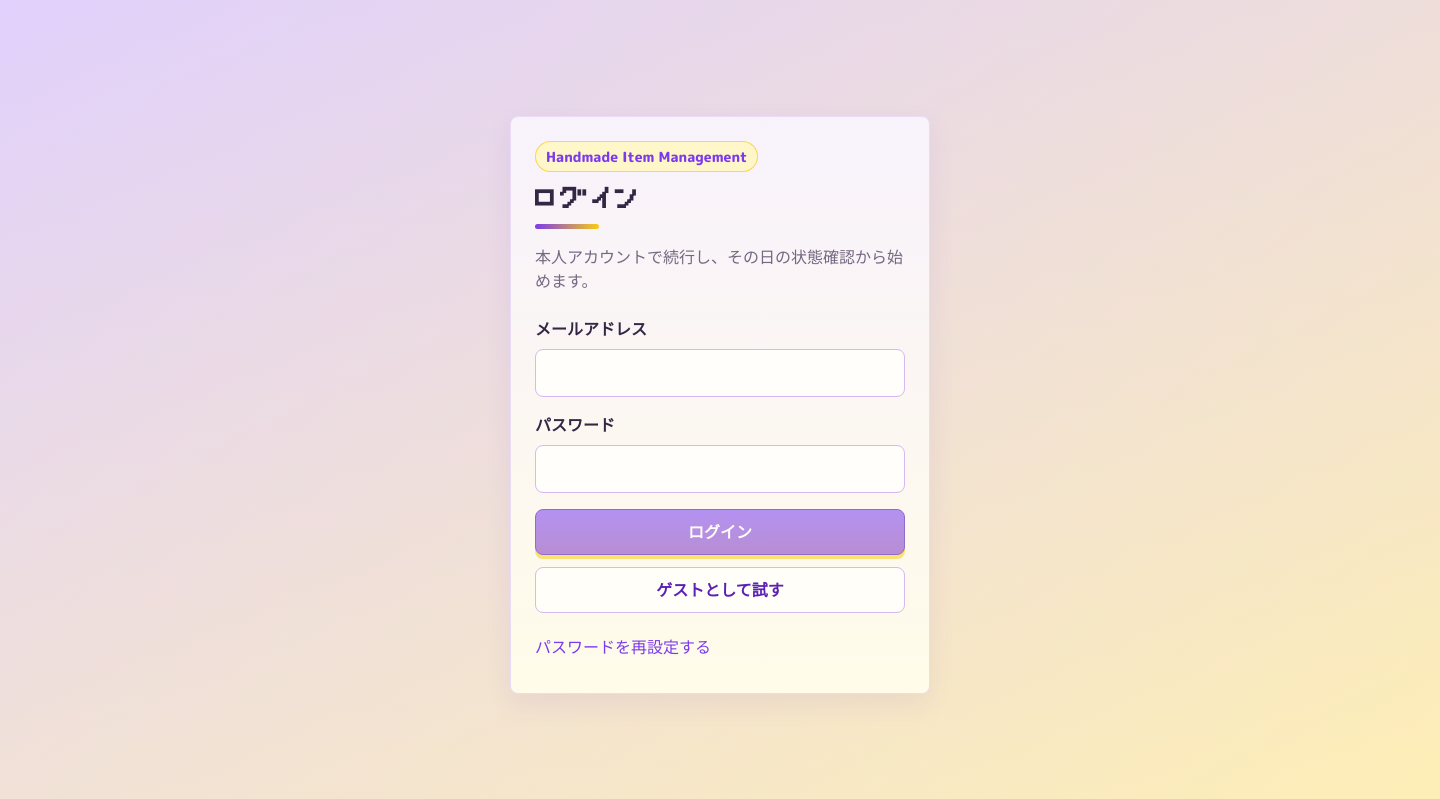
App routing › logs in as an anonymous guest when the demo feature is enabled
The image size is (1440, 799).
Click the button "ゲストとして試す": coordinates (720, 590) [535,567,905,613]
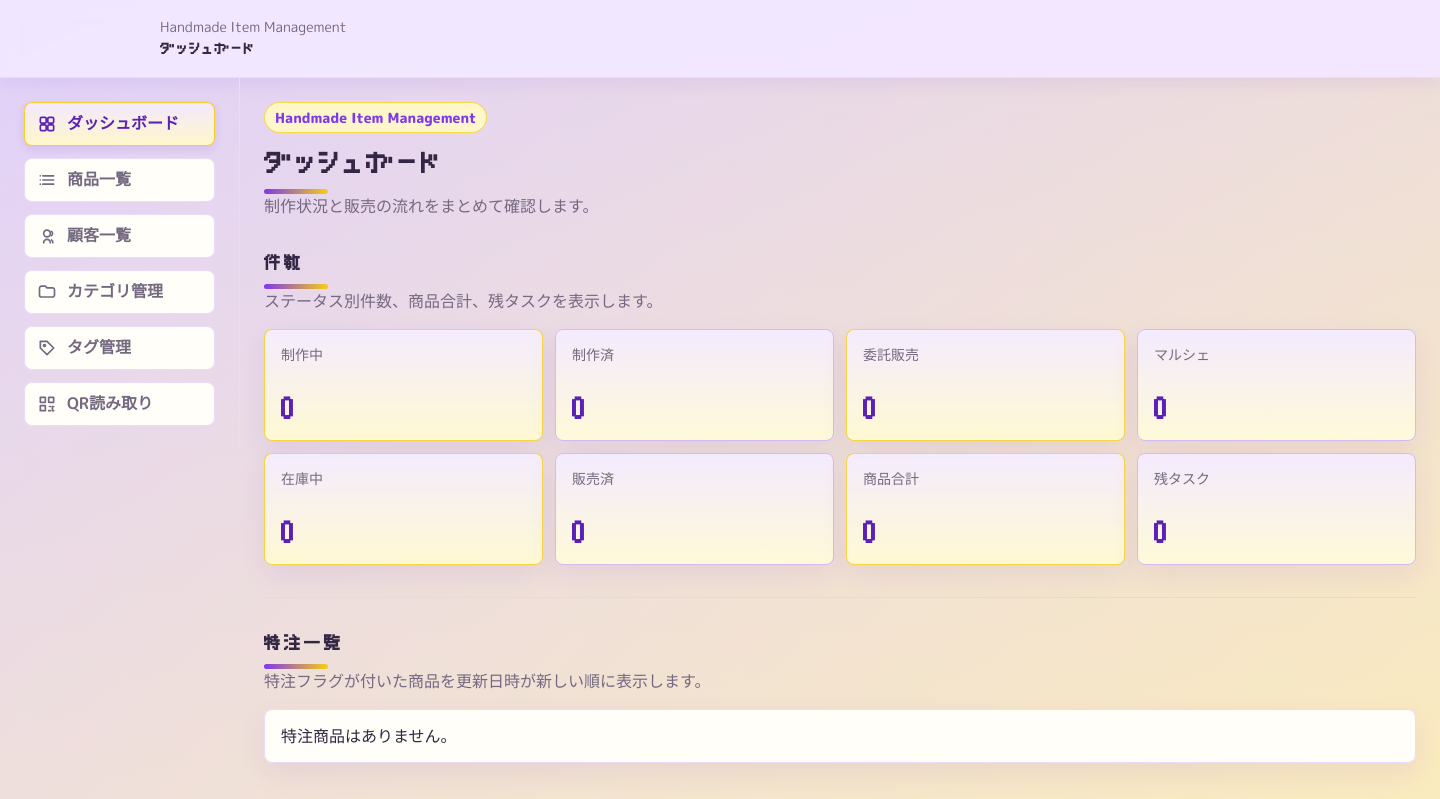
Result: the heading "ダッシュボード" is shown at [264,148,443,178]
